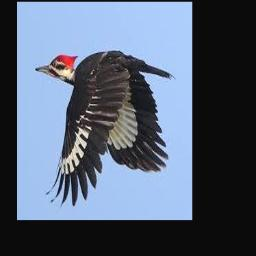Woodpecker: (36, 49, 177, 206)
